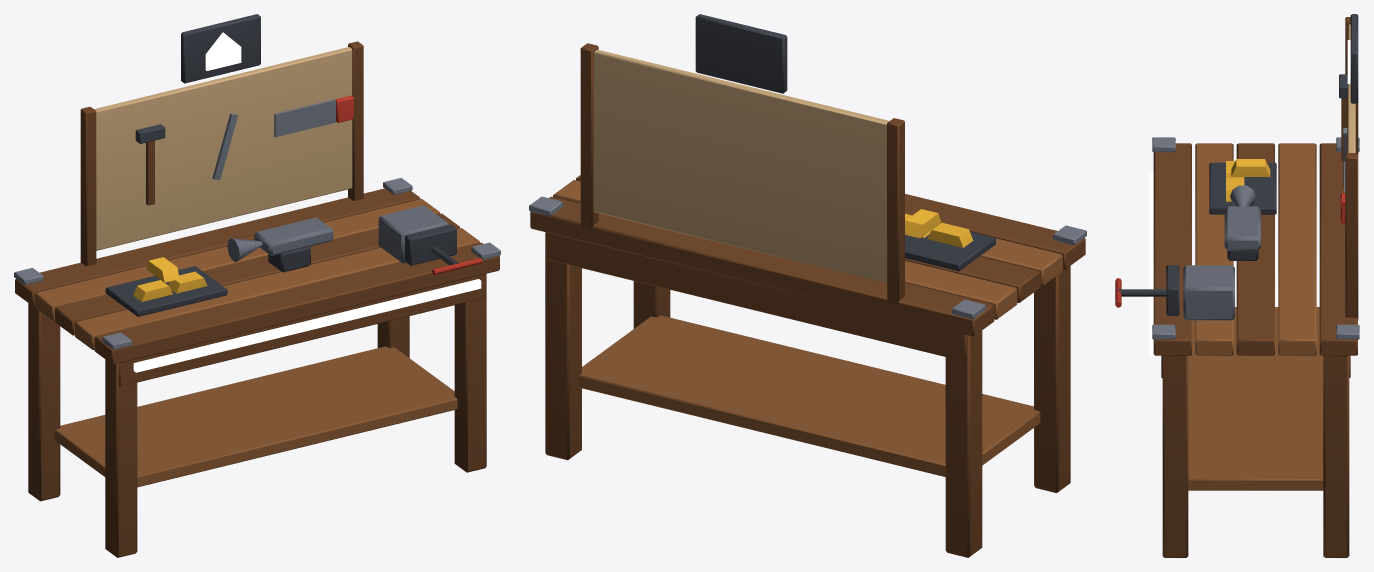
The model's file is upgrade_bench.glb.
3 views of the same model, side by side, from view 1: azimuth 30°, elevation 25°; view 2: azimuth 150°, elevation 25°; view 3: azimuth 270°, elevation 25° (orthographic). The views are drawn at different scales.
Visible parts, largest first — view 1: bench_wood, bench_board, bench_metal, bench_sign, bench_gold, bench_glow; view 2: bench_wood, bench_board, bench_sign, bench_gold; view 3: bench_wood, bench_metal, bench_board, bench_gold, bench_sign, bench_glow.
Part boxes in pixels (x1,y1,x2,y2): bench_wood: (14, 177, 500, 557); bench_board: (80, 41, 363, 266); bench_metal: (135, 95, 482, 274); bench_sign: (181, 14, 260, 83); bench_gold: (105, 257, 227, 316); bench_glow: (133, 279, 481, 372); bench_wood: (529, 175, 1086, 557); bench_board: (580, 43, 904, 304); bench_sign: (695, 14, 787, 93); bench_gold: (905, 209, 995, 271); bench_wood: (1152, 137, 1359, 557); bench_metal: (1115, 74, 1347, 320); bench_board: (1345, 17, 1358, 320); bench_gold: (1209, 159, 1276, 214); bench_sign: (1347, 14, 1358, 103); bench_glow: (1149, 173, 1154, 356).
Size of the model in its own units: 1.8 by 1.86 by 0.942.
